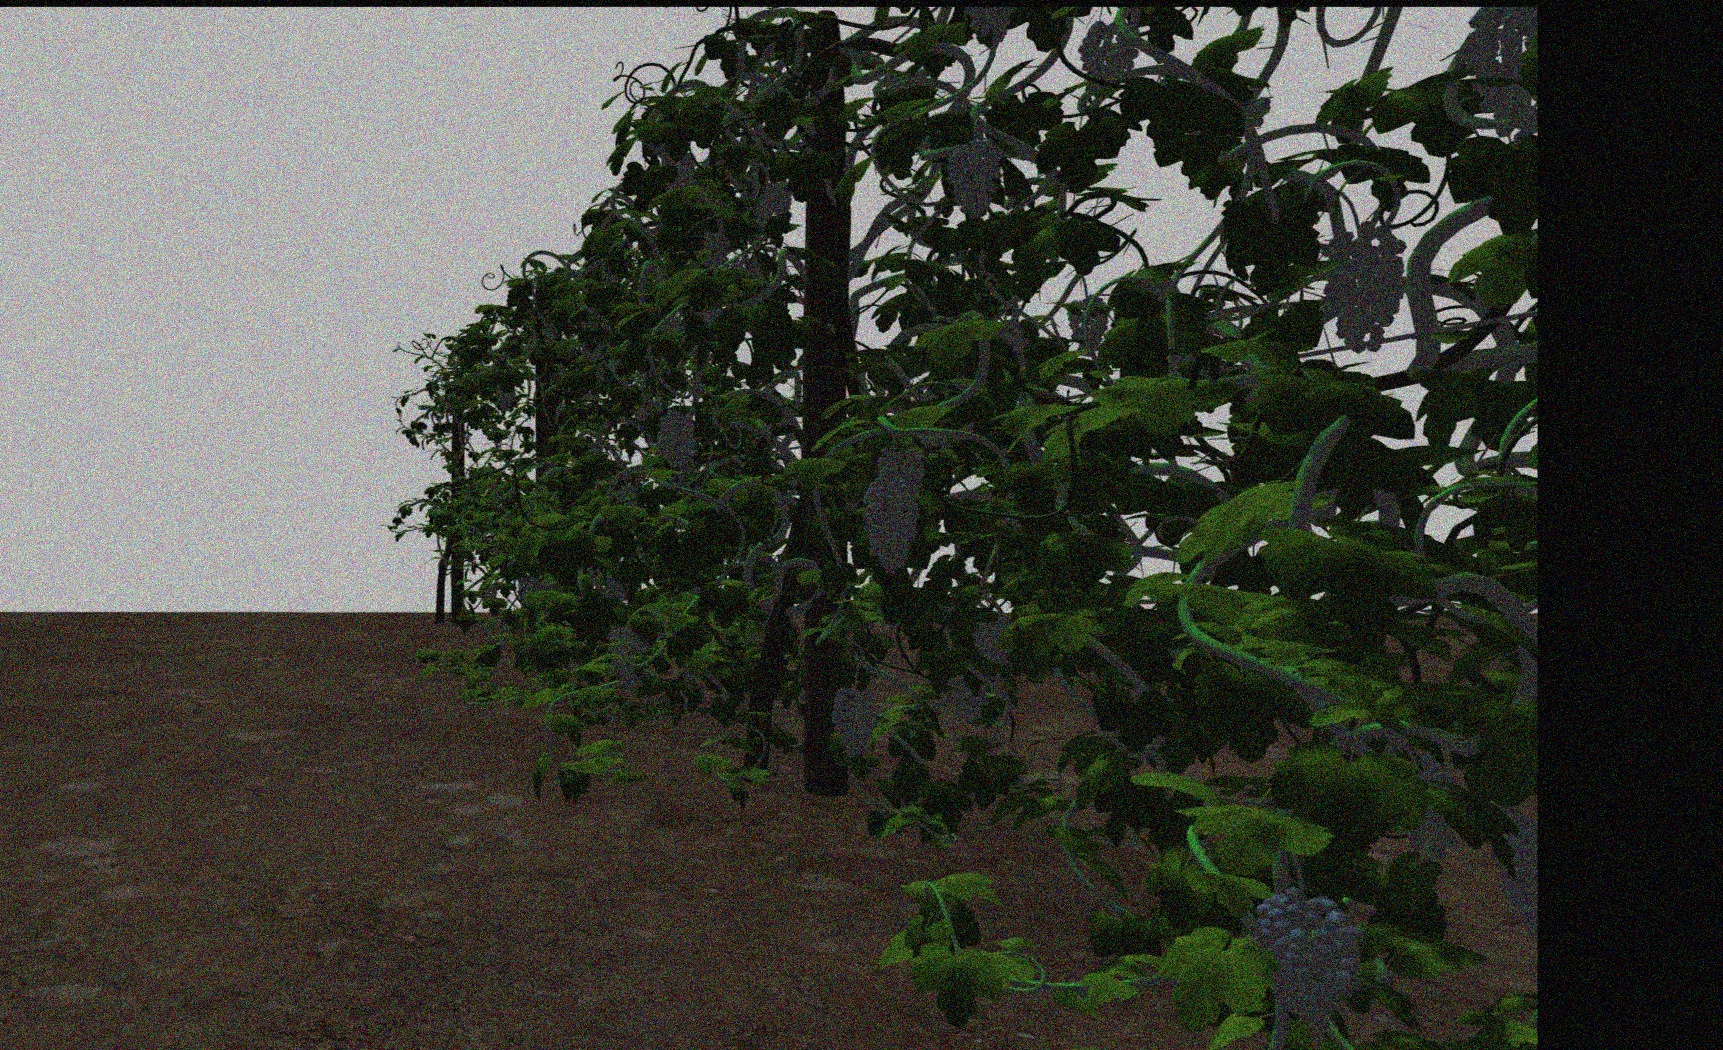grape: (1250, 885, 1359, 1030), (1319, 219, 1407, 352), (1463, 7, 1536, 145), (860, 476, 918, 579), (1079, 20, 1136, 97), (945, 139, 1001, 218), (830, 684, 877, 759), (608, 623, 654, 694), (655, 406, 697, 468), (751, 177, 793, 231), (494, 380, 514, 412)
